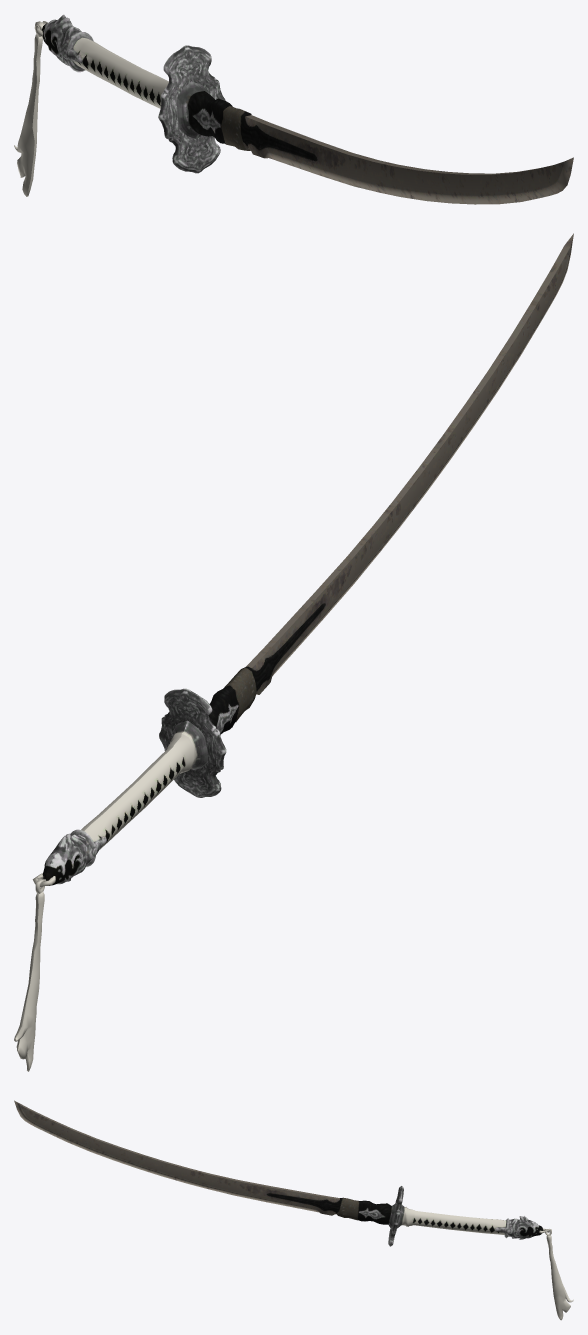
File: Sword.fbx
3 renders of one model, top to bottom at view 1: azimuth 30°, elevation 25°; view 2: azimuth 150°, elevation 25°; view 3: azimuth 270°, elevation 25°, orthographic. The views are drawn at different scales.
Visible parts, largest first — view 1: Sword hand; view 2: Sword hand; view 3: Sword hand.
Part boxes in pixels (x1,y1,x2,y2): Sword hand: (14,14,573,204); Sword hand: (14,233,573,1071); Sword hand: (14,1100,573,1320).
Size of the model in its own units: 124 by 769 by 1774.
